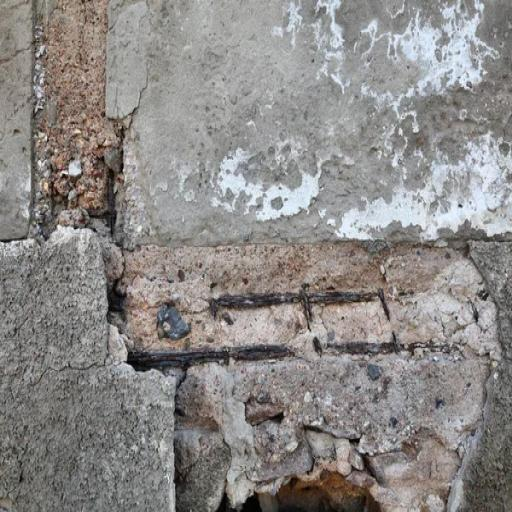spalling: (37, 0, 499, 361)
